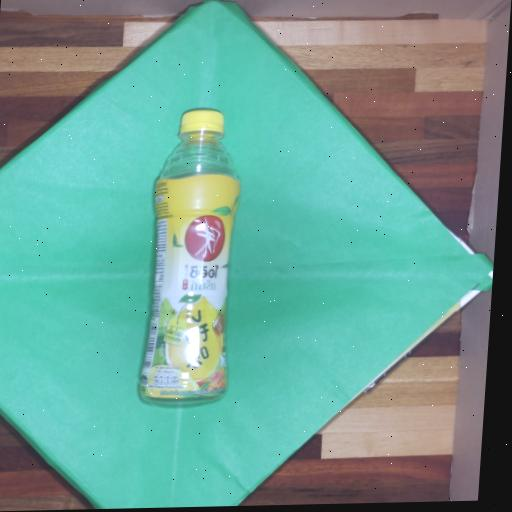bottle: (138, 108, 247, 400)
